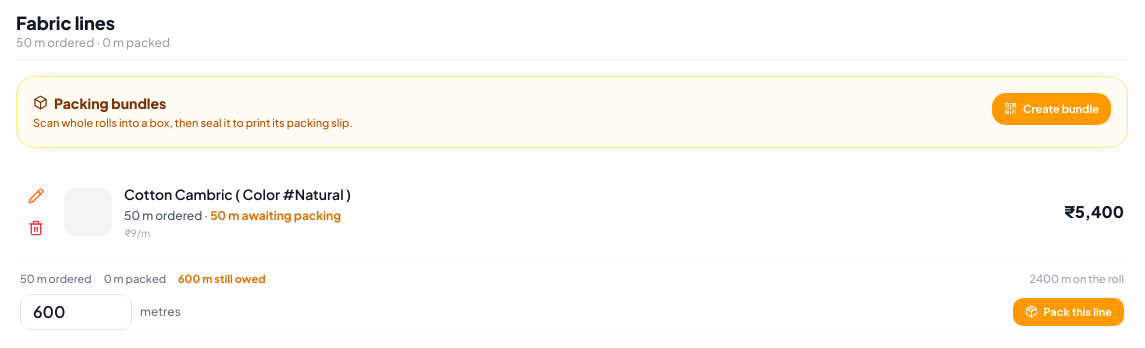
Test case: OrderItemsSection over-packed quantities › shows no surplus note on a line packed exactly
Replace the text in the number field named "metres of cotton cambric to pack" with "50" at (76, 312), box left=20, top=294, right=132, bottom=330
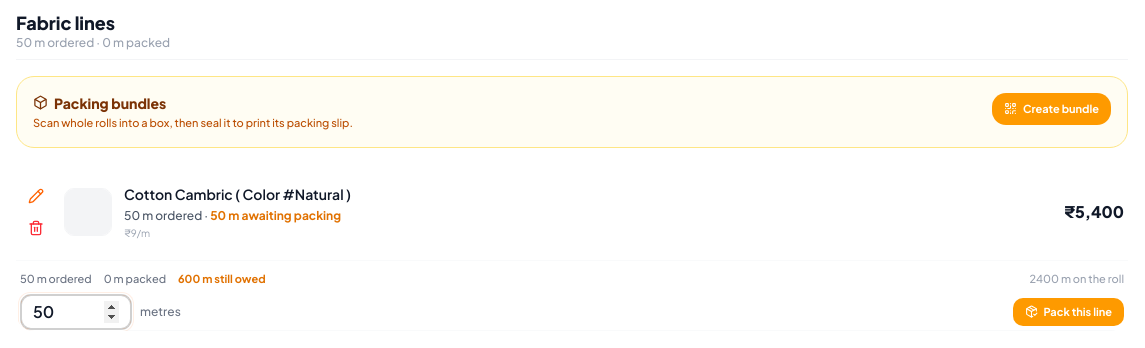
Click the button "Pack this line" at (1068, 312), box left=1013, top=298, right=1124, bottom=326
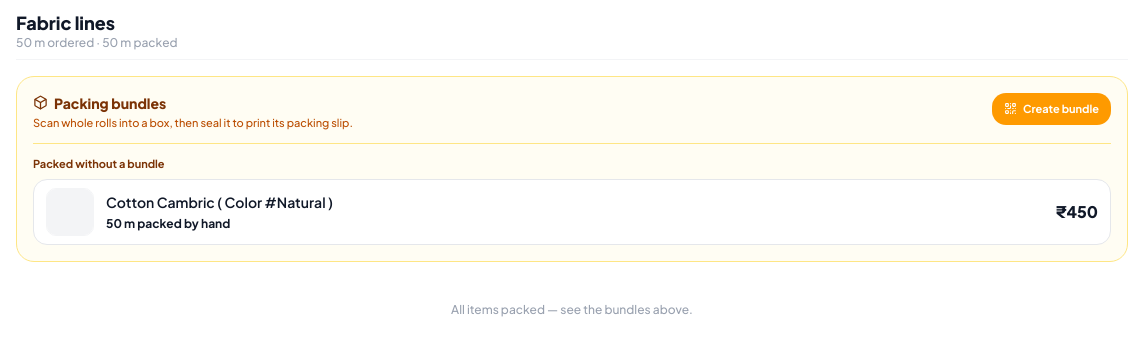
Now the text "50 m packed by hand" is shown, box left=106, top=216, right=230, bottom=230
